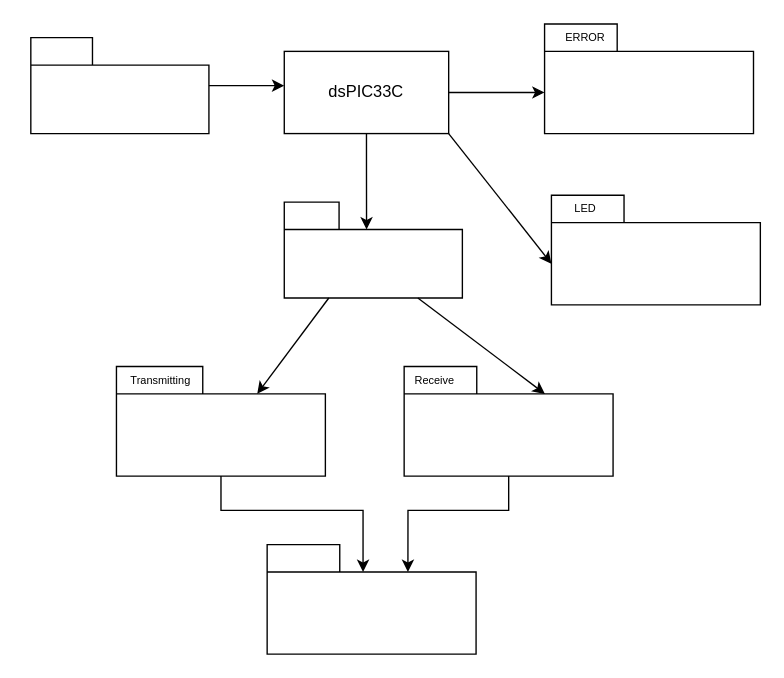
Some shapes in this 784 by 678 pixel diagram are drawn without their labels. Here are the shapes that lost their labels. From the top down, the centre of each, then its label:
At (119,85): "Switch".
At (372,249): "Mode".
At (371,598): "CAN".
